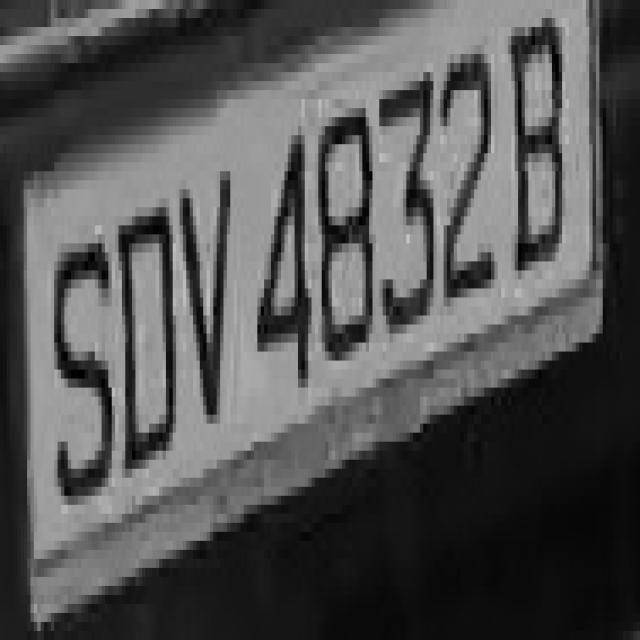2: (430, 18, 498, 325)
3: (369, 54, 440, 361)
4: (248, 108, 318, 406)
8: (318, 54, 386, 361)
B: (508, 9, 582, 288)
D: (105, 180, 183, 487)
S: (48, 207, 115, 514)
V: (176, 144, 234, 451)
